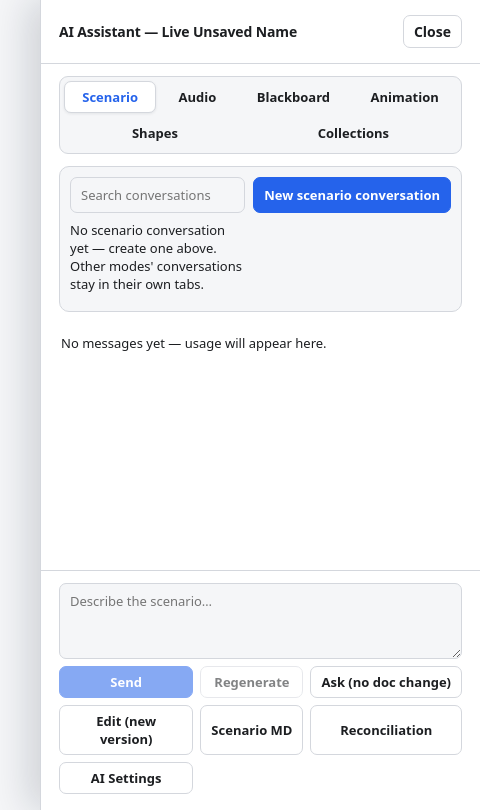
AiPanel animation mode › switches back to scenario mode
What coordinates should you click on to do the following:
click the button with test id "ai-mode-animation"
I would click on:
 (405, 97)
Its box is [352,81,457,113].
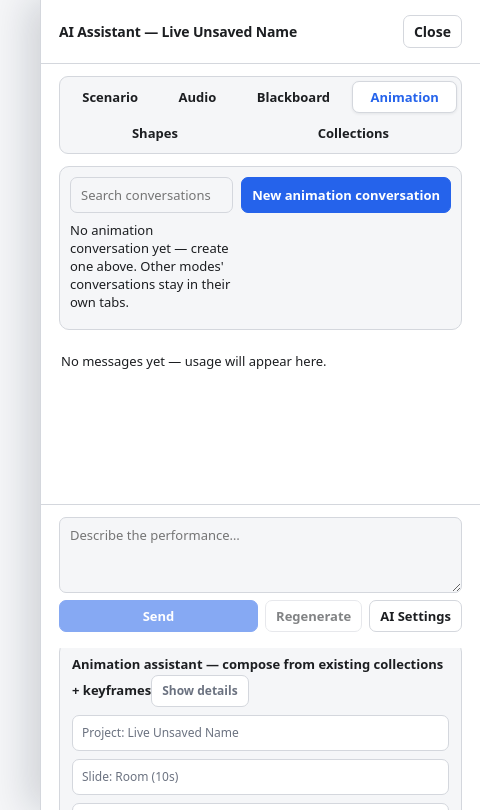
What coordinates should you click on to do the following:
click the button with test id "ai-mode-scenario"
I would click on:
 (110, 97)
Its box is [64,81,156,113].
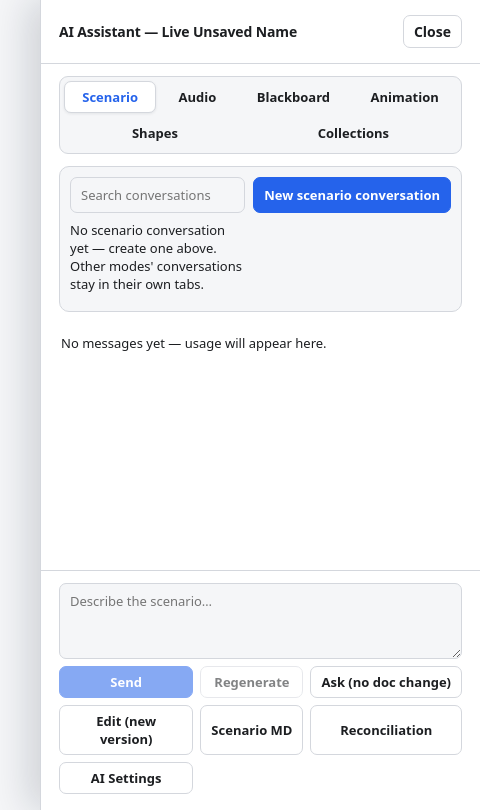
Expected: the button with test id "ai-scenario-open-modal" is shown, [200,705,304,755]
Expected: the button with test id "ai-reconciliation-open-modal" is shown, [310,705,462,755]
